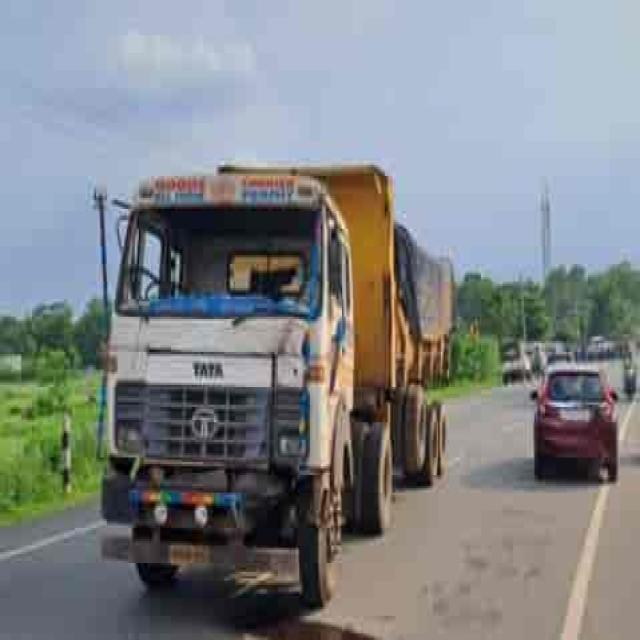car: (531, 364, 616, 480)
truck: (104, 165, 454, 606)
